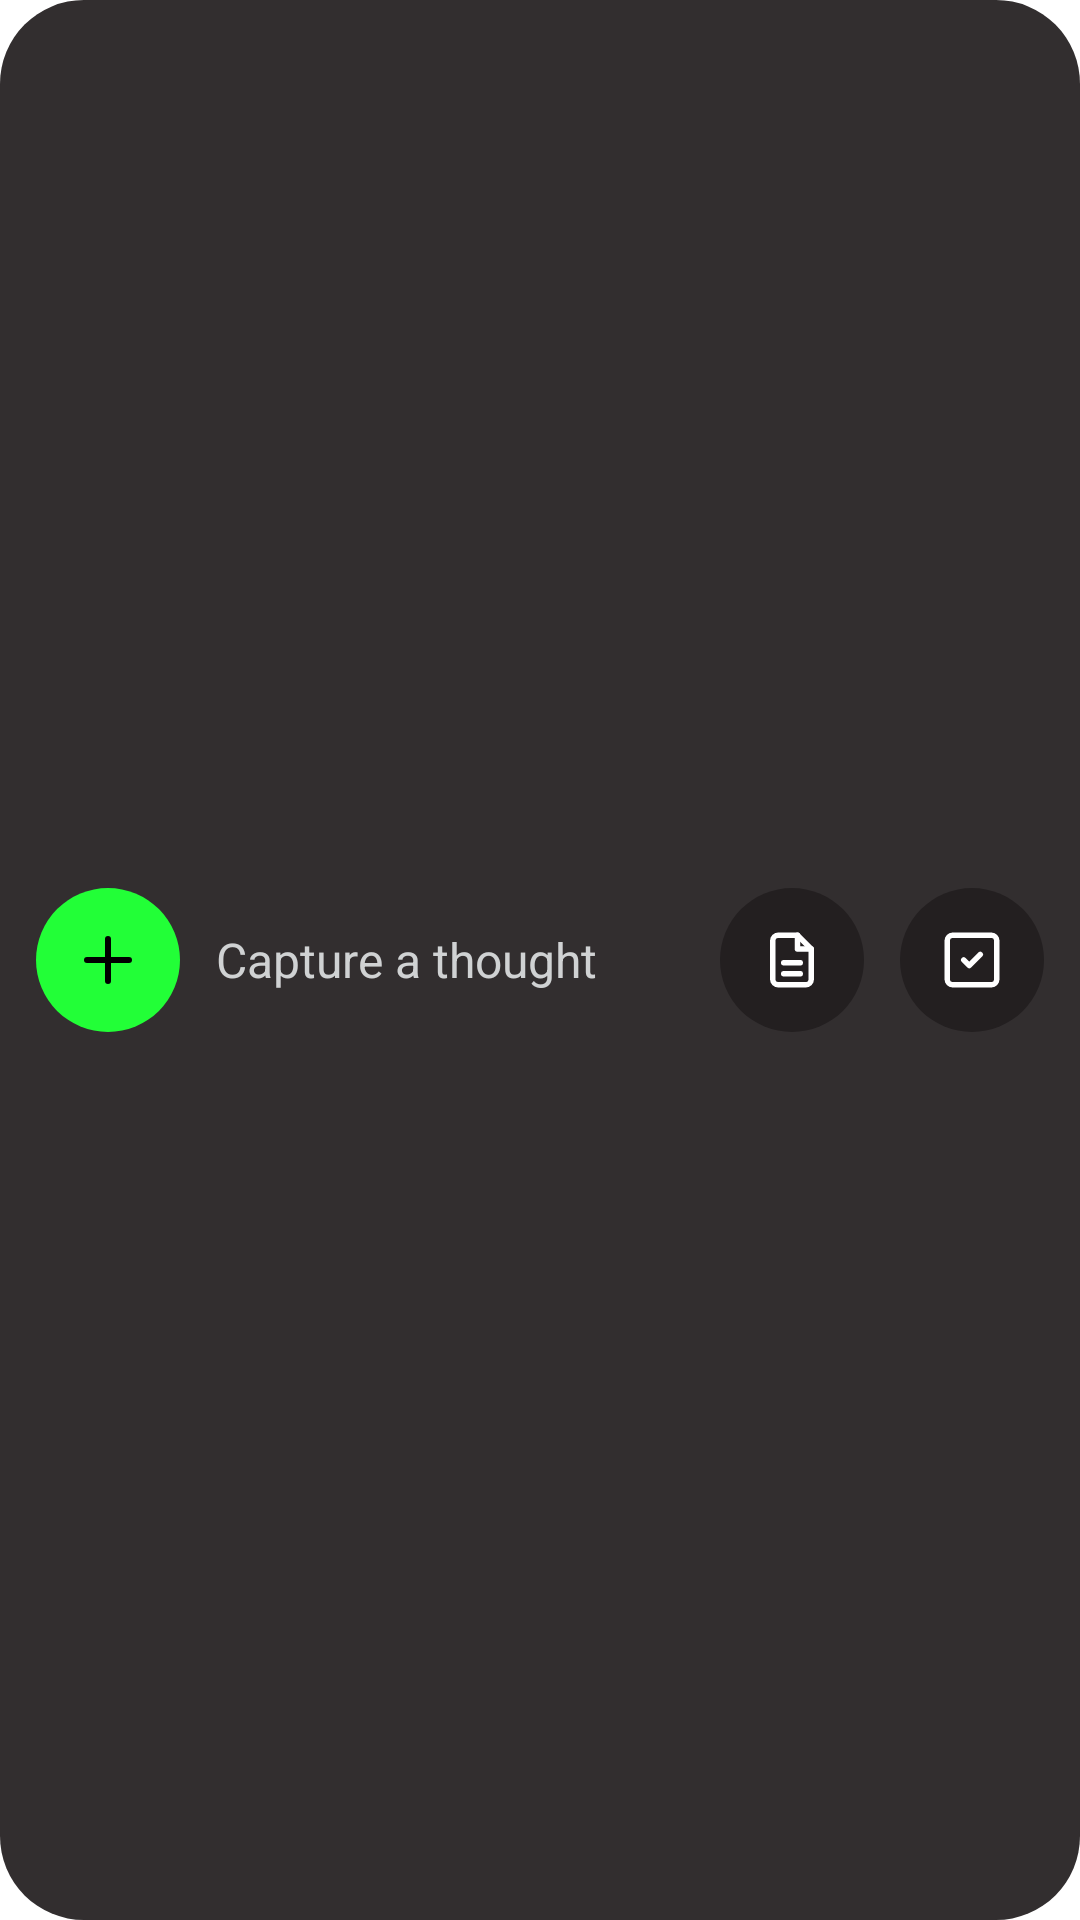

Where to tap for icons on this 1080×1920 app screen, as point (x, y):
Capture a note: point (792, 960)
Capture a task: point (972, 960)
